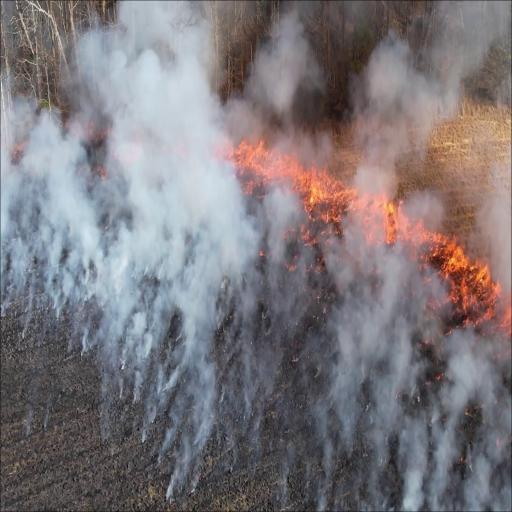fire: (295, 156, 401, 246)
smoke: (78, 0, 254, 512), (360, 0, 512, 199), (328, 223, 423, 512), (4, 92, 77, 339), (433, 322, 512, 512)
